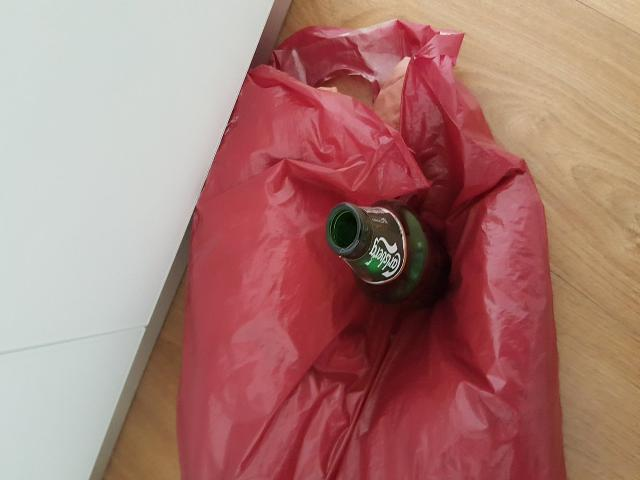beer: (326, 202, 452, 304)
